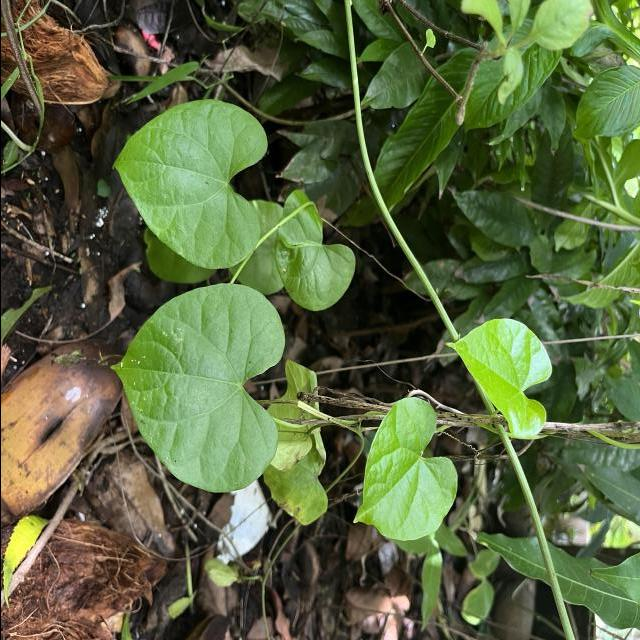Tinospora cordifolia: (106, 280, 286, 494), (108, 97, 269, 272), (350, 395, 460, 543), (442, 316, 554, 442)
